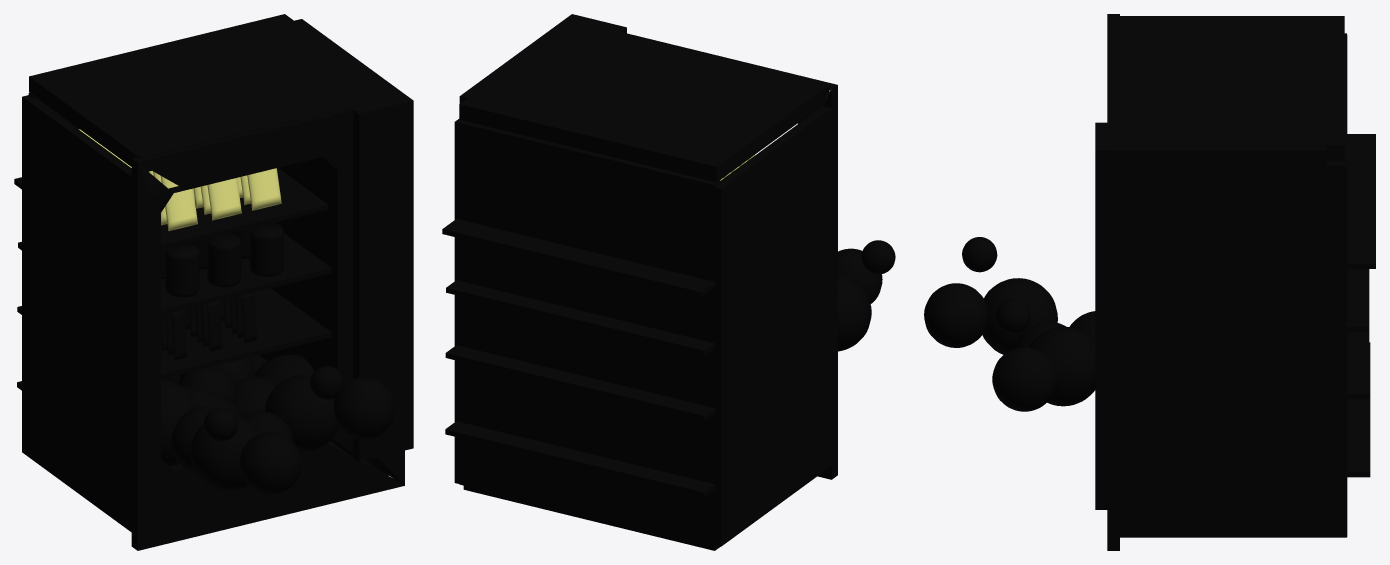
Rendered from vendingmachineblend.glb.
The picture shows the model from 3 angles, left to right: view 1: azimuth 30°, elevation 25°; view 2: azimuth 150°, elevation 25°; view 3: azimuth 270°, elevation 25°; orthographic projection. The views are drawn at different scales.
Parts seen in each view (by area): view 1: pSphere9; view 2: pSphere9; view 3: pSphere9.
Part boxes in pixels (x1=…): pSphere9: x1=14, y1=14, x2=413, y2=550; pSphere9: x1=442, y1=14, x2=895, y2=550; pSphere9: x1=924, y1=14, x2=1375, y2=550.
Size of the model in its own units: 0.1828 by 0.2516 by 0.2558.
